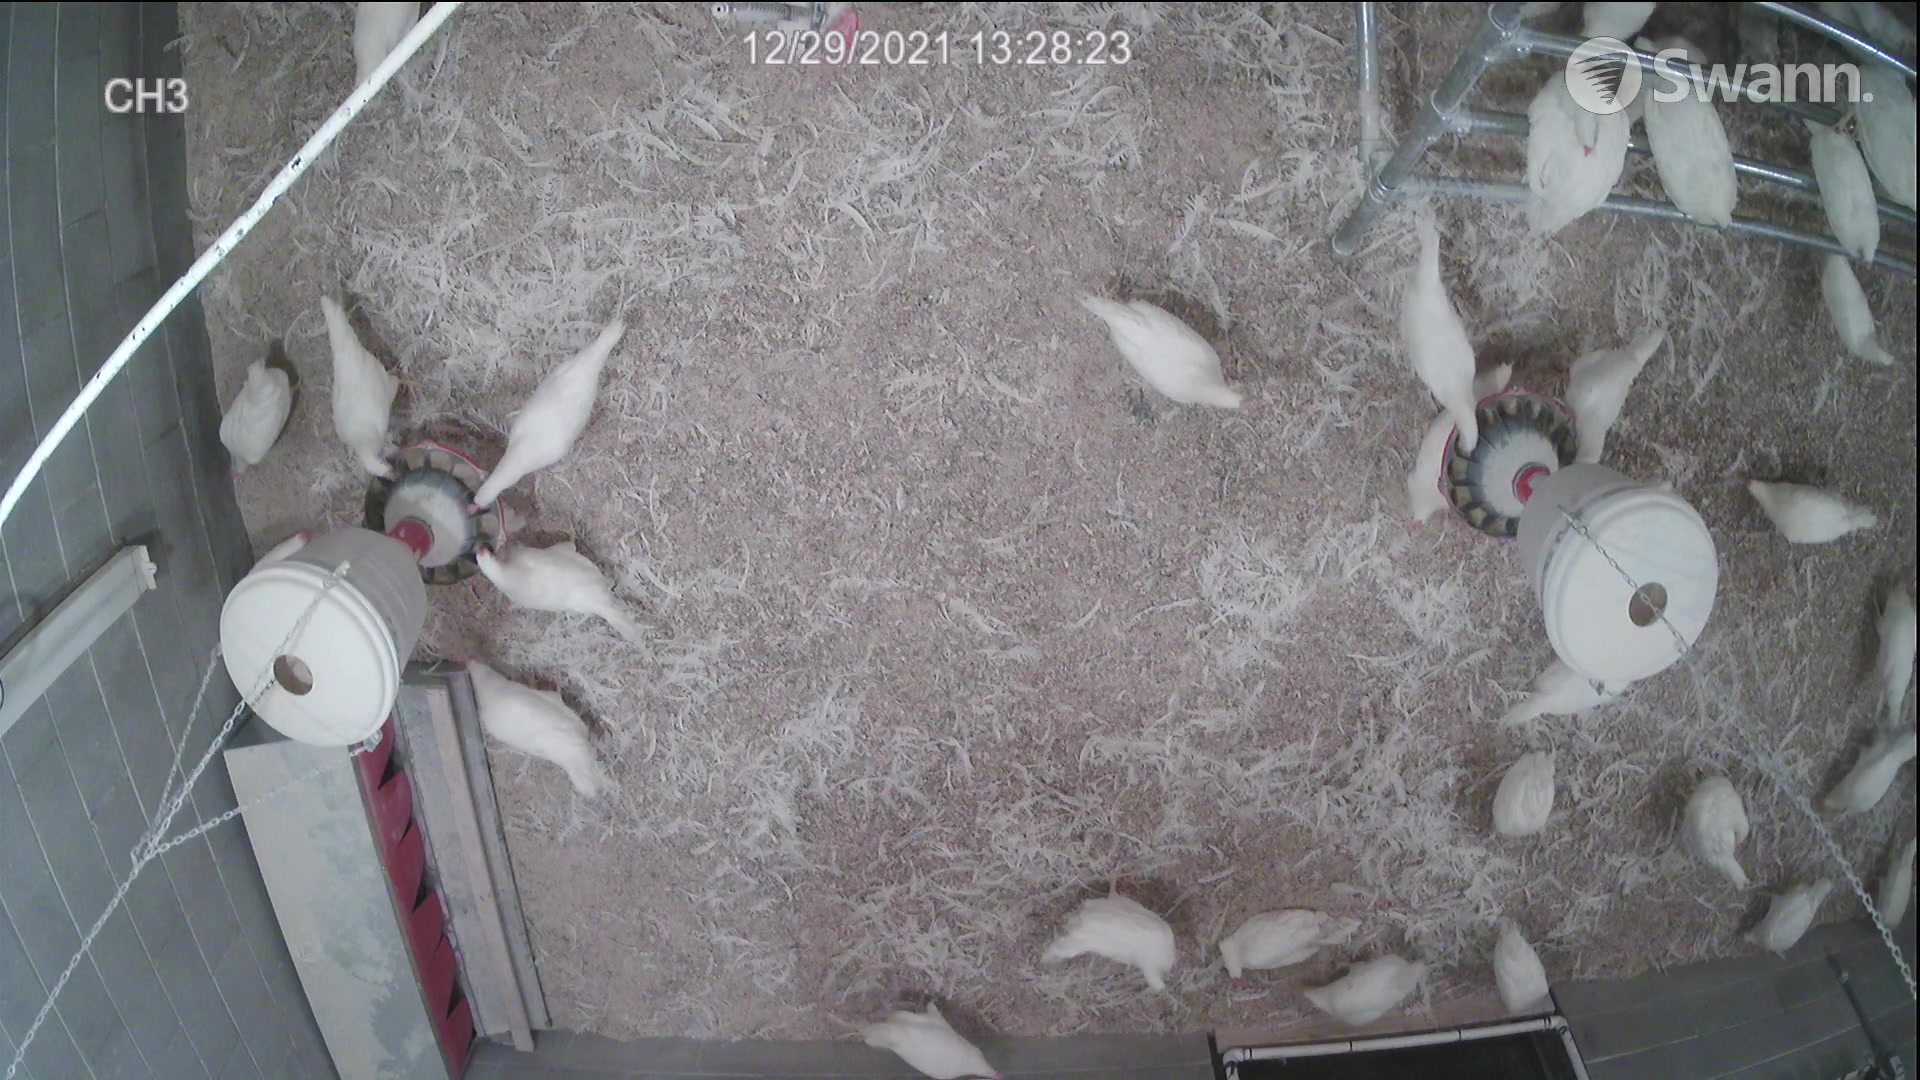Feeding: (448, 314, 655, 520), (1400, 208, 1509, 448), (305, 287, 406, 501), (463, 545, 647, 640), (1572, 314, 1647, 458)
Foraging: (1087, 285, 1270, 430), (855, 1004, 1000, 1080), (1491, 741, 1581, 847)
Perching: (1629, 50, 1746, 232), (1519, 54, 1633, 240), (1803, 108, 1894, 266), (1854, 46, 1920, 215)
